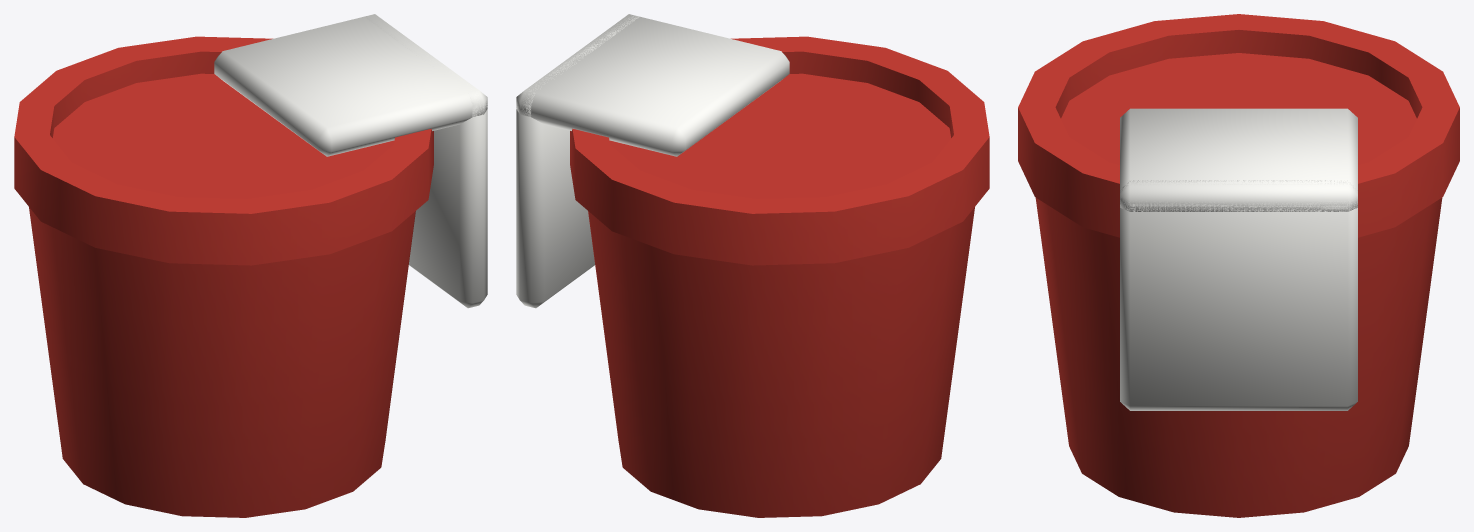
File: SM_SanitizerBucket_01.glb
The picture shows the model from 3 angles, left to right: view 1: azimuth 30°, elevation 25°; view 2: azimuth 150°, elevation 25°; view 3: azimuth 270°, elevation 25°; orthographic projection. The views are drawn at different scales.
Parts seen in each view (by area): view 1: SM_SanitizerBucket_01; view 2: SM_SanitizerBucket_01; view 3: SM_SanitizerBucket_01.
Boxes of the visible parts, x1,y1,x2,y2 form: SM_SanitizerBucket_01: [14, 14, 487, 517]; SM_SanitizerBucket_01: [516, 14, 989, 517]; SM_SanitizerBucket_01: [1018, 14, 1459, 517].
Size of the model in its own units: 0.28 by 0.236 by 0.26.
Materials: 1 (1 with a texture image).
